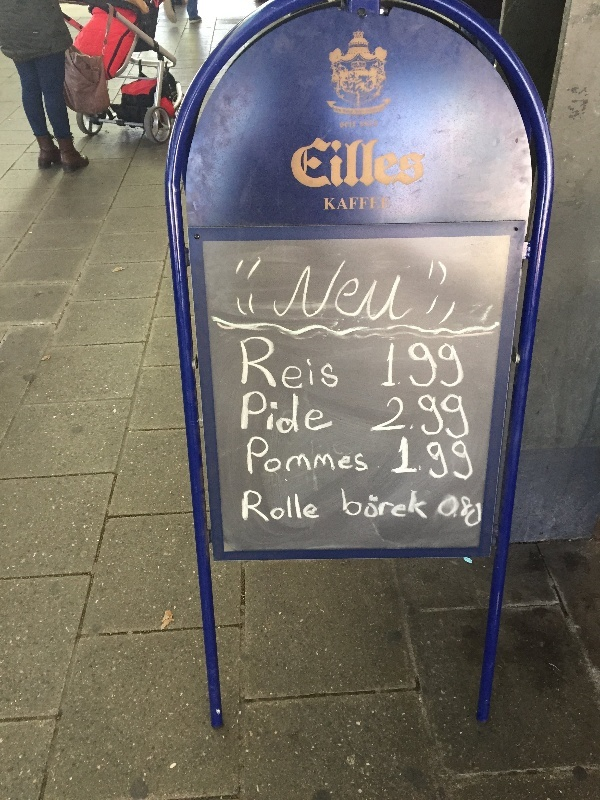text: (401, 257, 417, 326), (321, 257, 336, 326), (337, 257, 352, 326), (353, 257, 368, 326), (369, 257, 384, 326), (385, 257, 400, 326), (306, 257, 320, 326), (305, 135, 320, 192), (321, 135, 336, 192), (337, 135, 352, 192), (353, 135, 368, 192), (369, 135, 384, 192), (385, 135, 400, 192), (401, 135, 416, 192), (241, 336, 256, 393), (257, 336, 272, 393), (273, 336, 288, 393), (289, 336, 304, 393), (305, 336, 320, 393), (321, 336, 336, 393), (401, 391, 416, 442), (417, 391, 432, 442), (433, 391, 448, 442), (449, 391, 464, 442), (417, 435, 432, 484), (433, 435, 448, 484), (449, 435, 464, 484), (257, 390, 272, 438), (273, 390, 288, 438), (289, 390, 304, 438), (305, 390, 320, 438), (321, 390, 336, 438), (401, 342, 416, 388), (417, 342, 432, 388), (433, 342, 448, 388), (449, 342, 464, 388), (292, 135, 304, 192), (403, 435, 416, 484), (449, 492, 464, 533), (465, 492, 480, 533), (417, 135, 427, 192), (257, 437, 272, 475), (273, 437, 288, 475), (289, 437, 304, 475), (305, 437, 320, 475), (321, 437, 336, 475), (337, 437, 352, 475), (353, 437, 368, 475), (465, 435, 476, 484), (245, 390, 256, 438), (389, 342, 400, 388), (353, 489, 368, 522), (369, 489, 384, 522), (385, 489, 400, 522), (401, 489, 416, 522), (257, 490, 272, 522), (273, 490, 288, 522), (289, 490, 304, 522), (305, 490, 320, 522), (417, 489, 431, 522), (391, 391, 400, 442), (242, 490, 256, 522), (438, 492, 448, 533), (465, 391, 473, 442), (246, 437, 256, 475), (342, 489, 352, 522), (337, 195, 352, 212), (353, 195, 368, 212), (369, 195, 384, 212), (324, 195, 336, 212), (465, 342, 468, 388), (337, 336, 339, 393), (385, 195, 391, 212), (481, 492, 483, 533), (321, 490, 323, 522), (369, 437, 370, 475)
